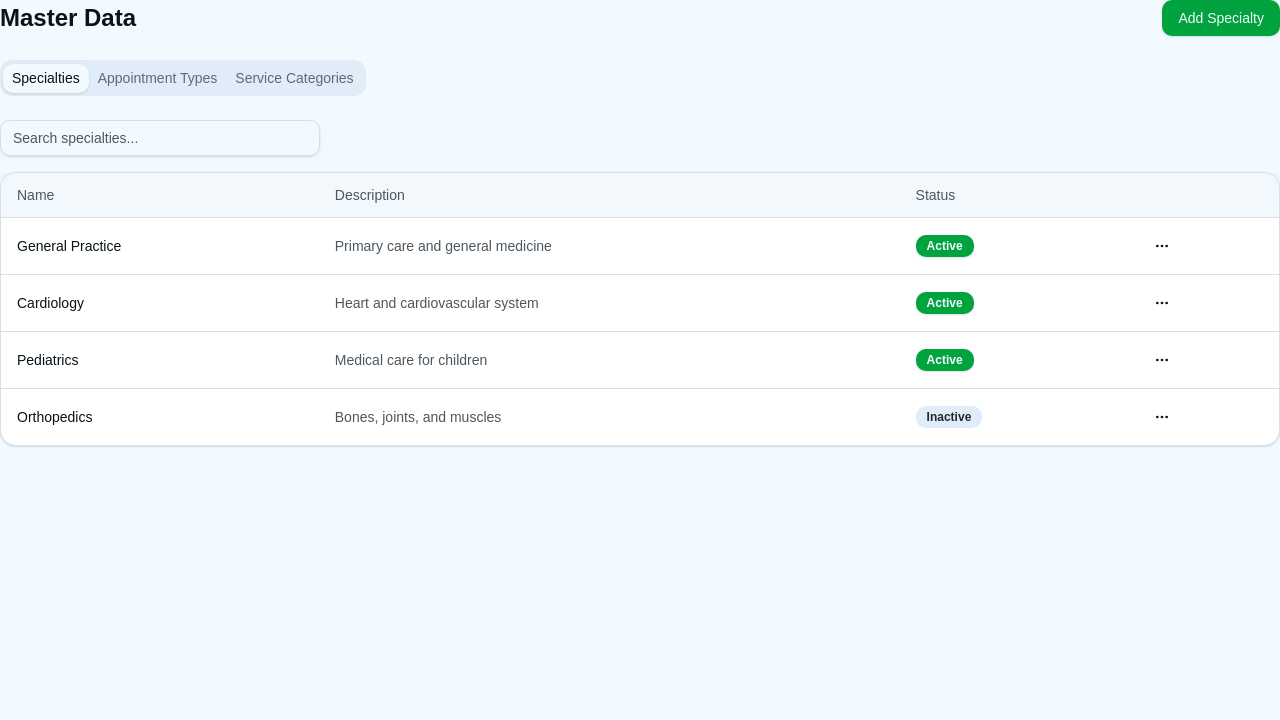
Test case: MasterDataPage › Add button opens Sheet form
The width and height of the screenshot is (1280, 720).
Click the button "Add Specialty": (1221, 18) x1=1162 y1=0 x2=1279 y2=36
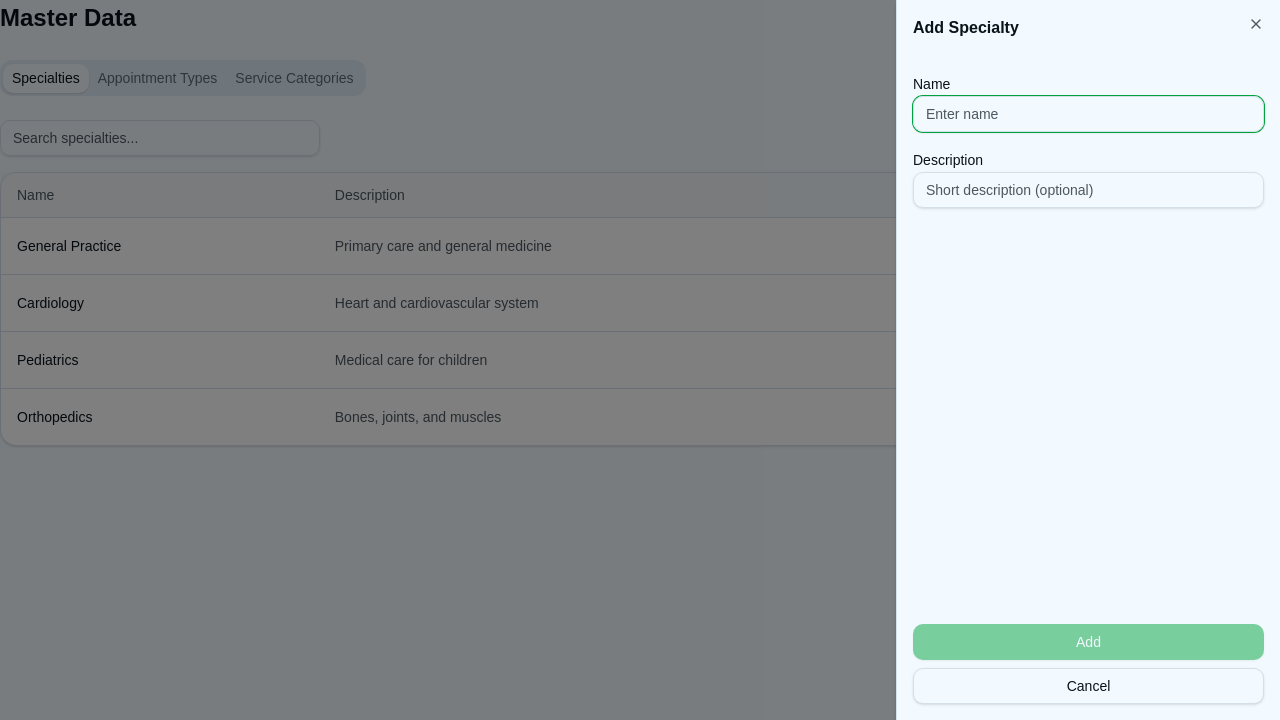
Now the field labelled "Name" is shown, box x1=913 y1=96 x2=1264 y2=132
